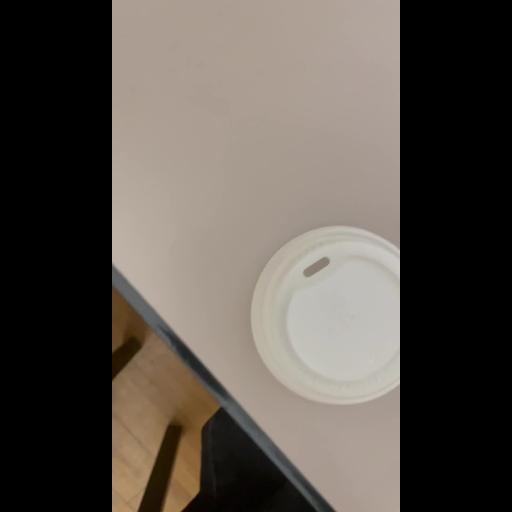lp_cup_lids: (246, 222, 400, 410)
